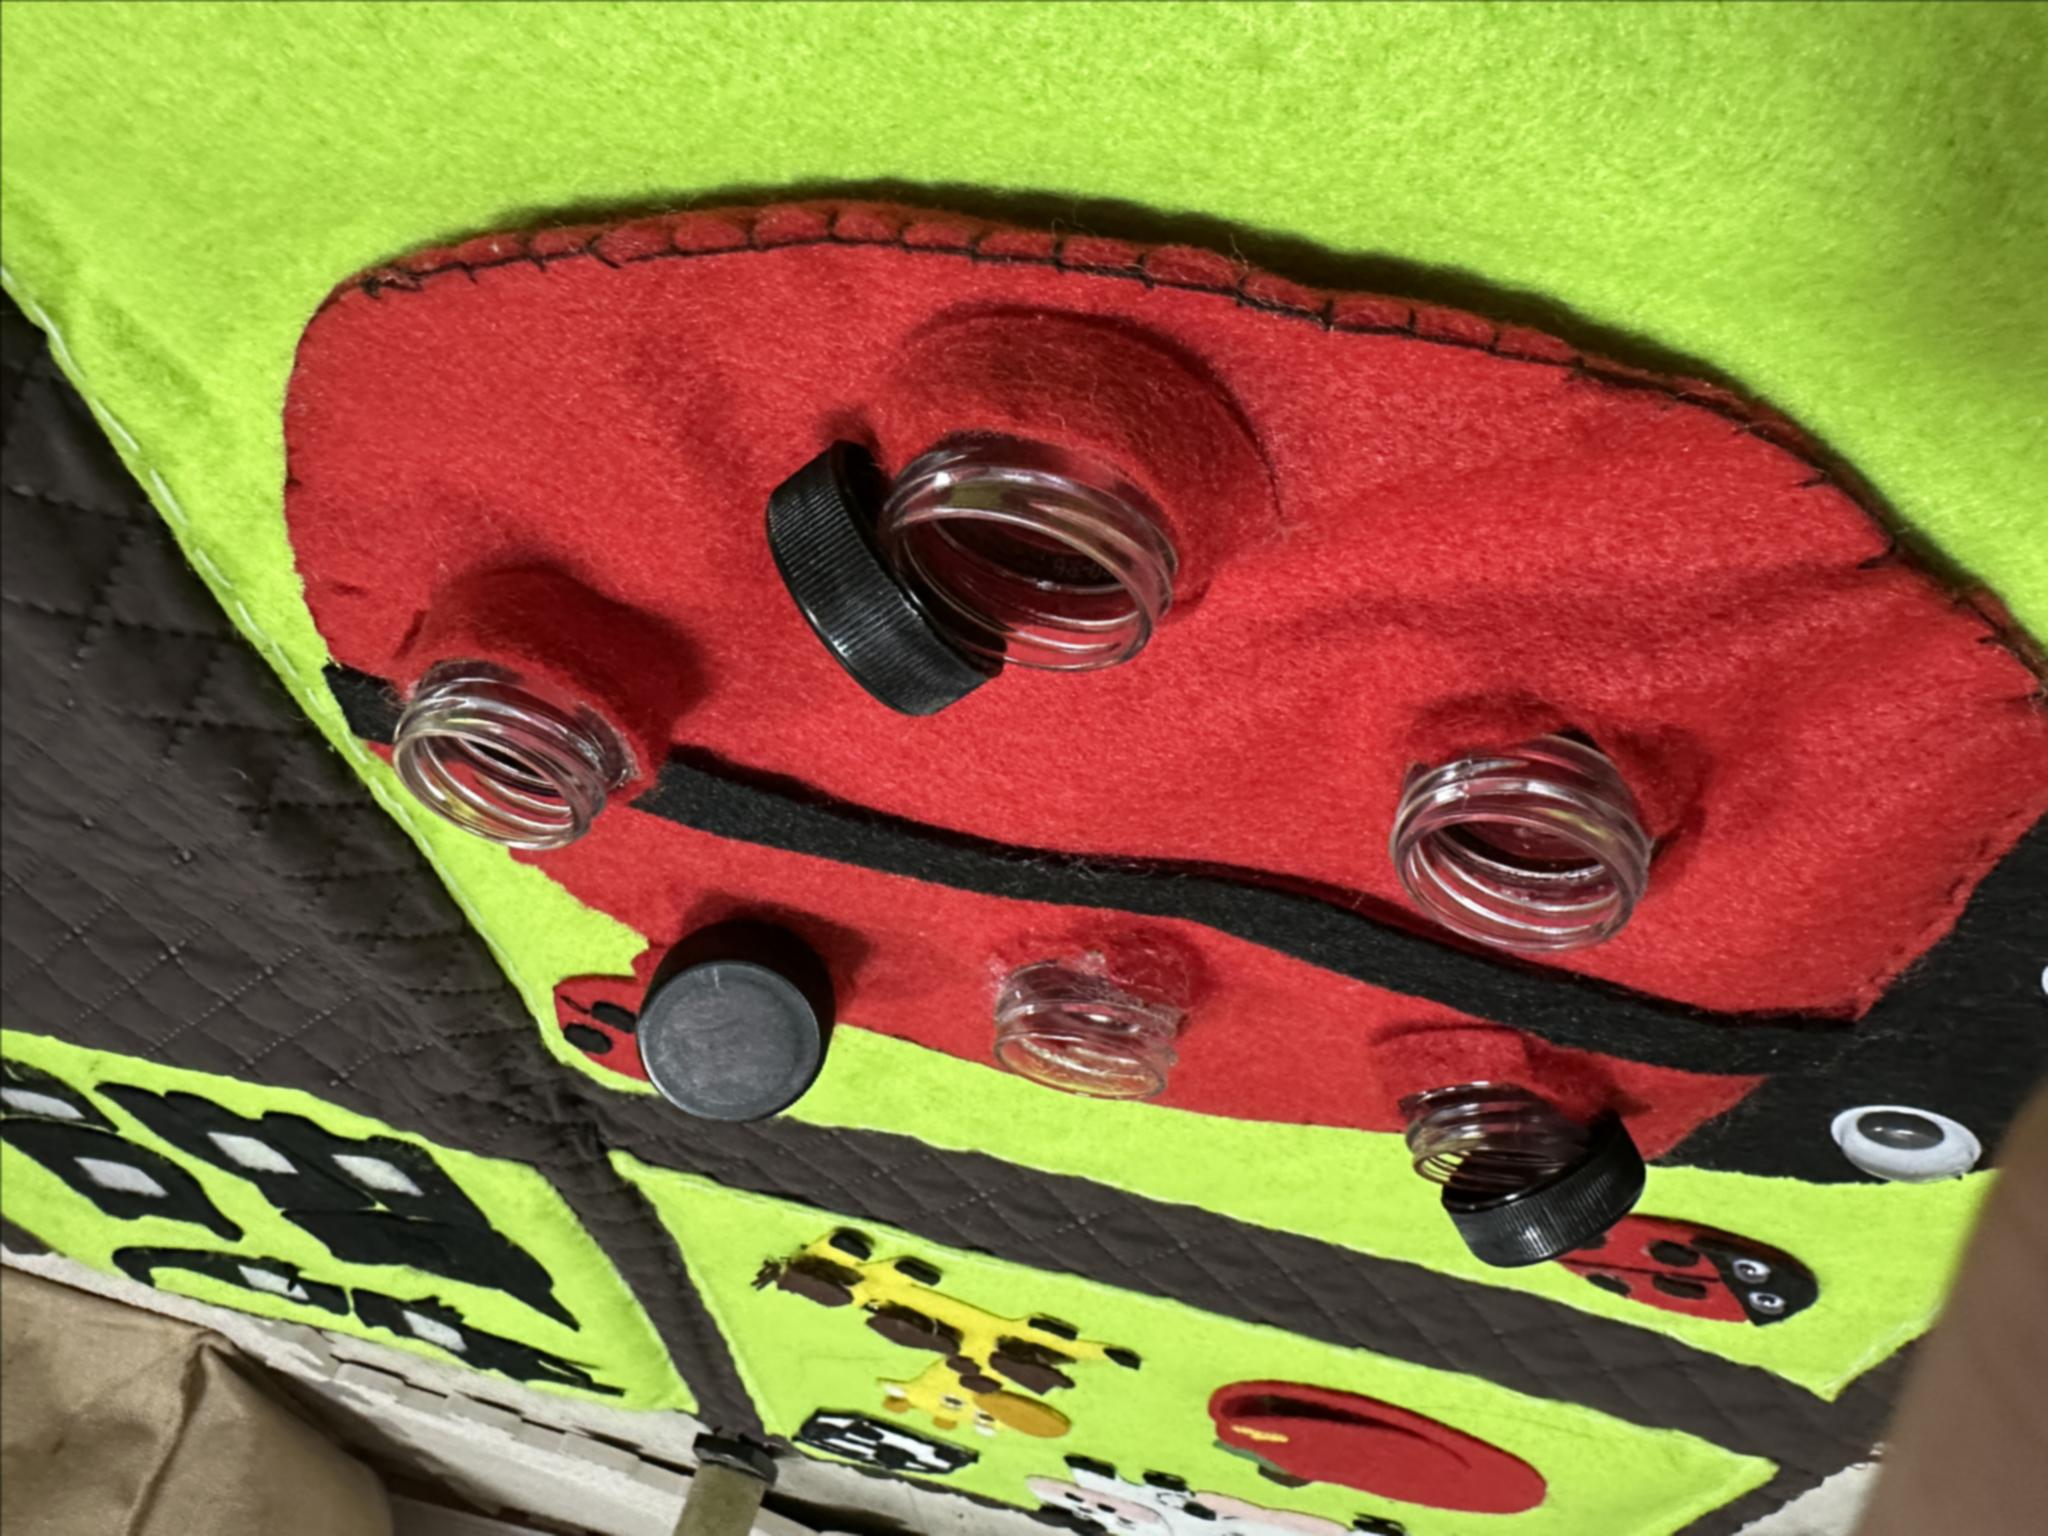cap_ng: (758, 290, 1279, 760), (1351, 1008, 1655, 1281)
cap_ok: (603, 895, 866, 1139)
